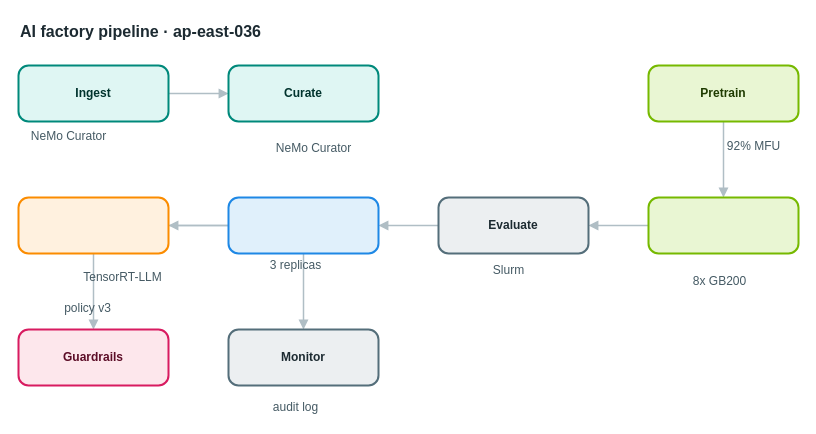
The diagram is 816 pixels wide and 434 high, and some of its shapes have lost their labels. The shapes that lost their labels are listed below. From the top down, each one's centre as x and y in pixels, then its label:
At (93,225): "Serve".
At (303,225): "Model registry".
At (723,225): "Fine-tune".
